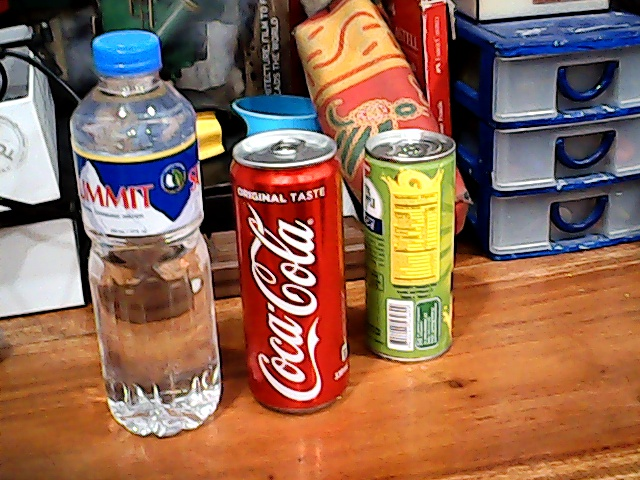Cola: (215, 117, 364, 423)
Pine Juice: (353, 123, 471, 369)
Summit Water: (54, 29, 231, 437)
